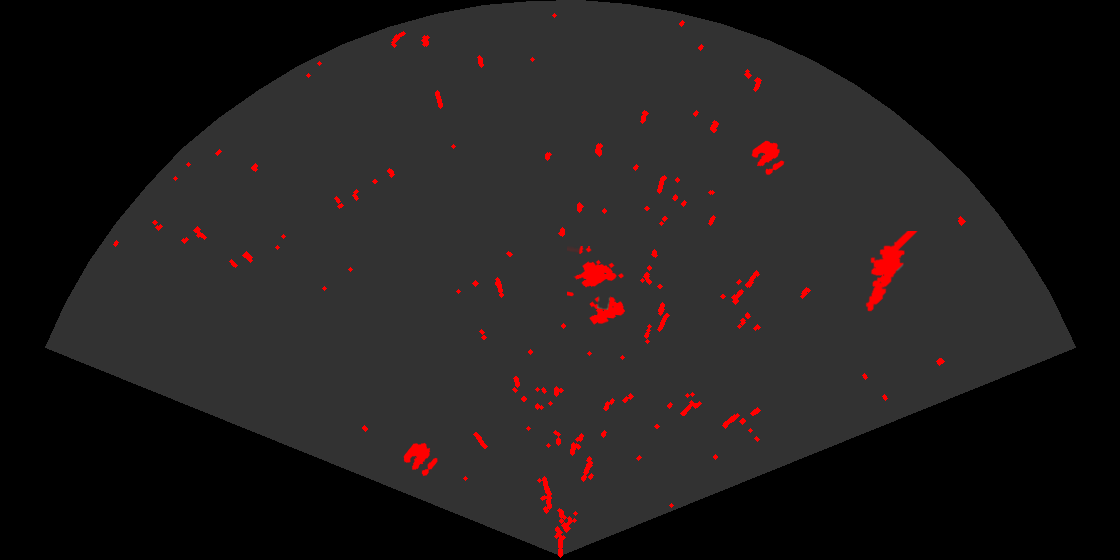ball: (402, 441, 439, 478), (750, 139, 786, 177)
cage: (567, 246, 627, 326)
frogman: (864, 231, 919, 313)
